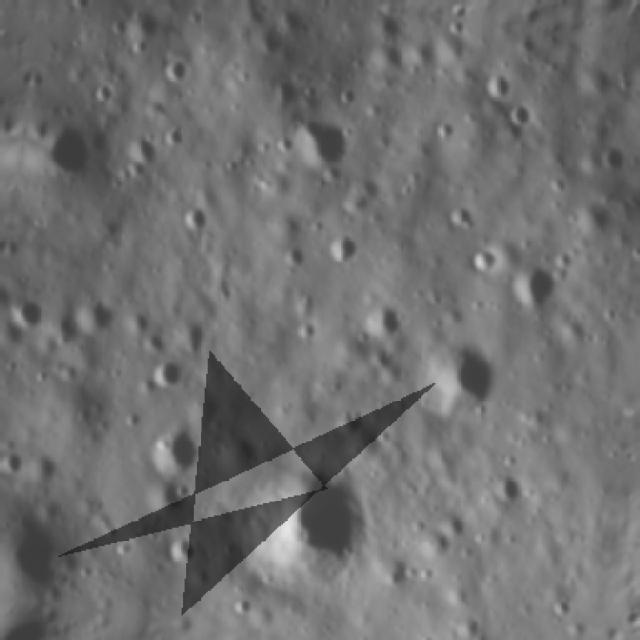crater: (222, 458, 386, 604), (0, 496, 97, 604), (418, 331, 507, 420), (28, 111, 98, 187), (138, 410, 210, 479), (288, 109, 364, 174), (501, 257, 565, 315), (359, 290, 415, 342), (72, 286, 125, 340), (361, 4, 421, 48), (147, 464, 196, 516), (568, 194, 620, 243), (122, 128, 166, 172), (6, 292, 52, 334), (146, 352, 192, 394), (275, 0, 318, 38), (50, 305, 92, 343), (478, 65, 522, 100), (468, 237, 503, 280), (594, 138, 632, 177), (436, 505, 473, 544), (326, 226, 362, 266), (128, 2, 164, 40), (288, 308, 323, 347), (268, 73, 304, 109), (443, 197, 480, 232), (161, 47, 193, 87), (488, 469, 523, 505), (178, 199, 215, 233), (168, 530, 203, 564), (90, 71, 122, 107), (504, 94, 536, 129), (279, 239, 313, 270), (268, 127, 298, 162), (0, 443, 28, 480), (107, 11, 130, 38), (128, 34, 154, 57), (67, 0, 101, 14), (564, 631, 596, 640)
